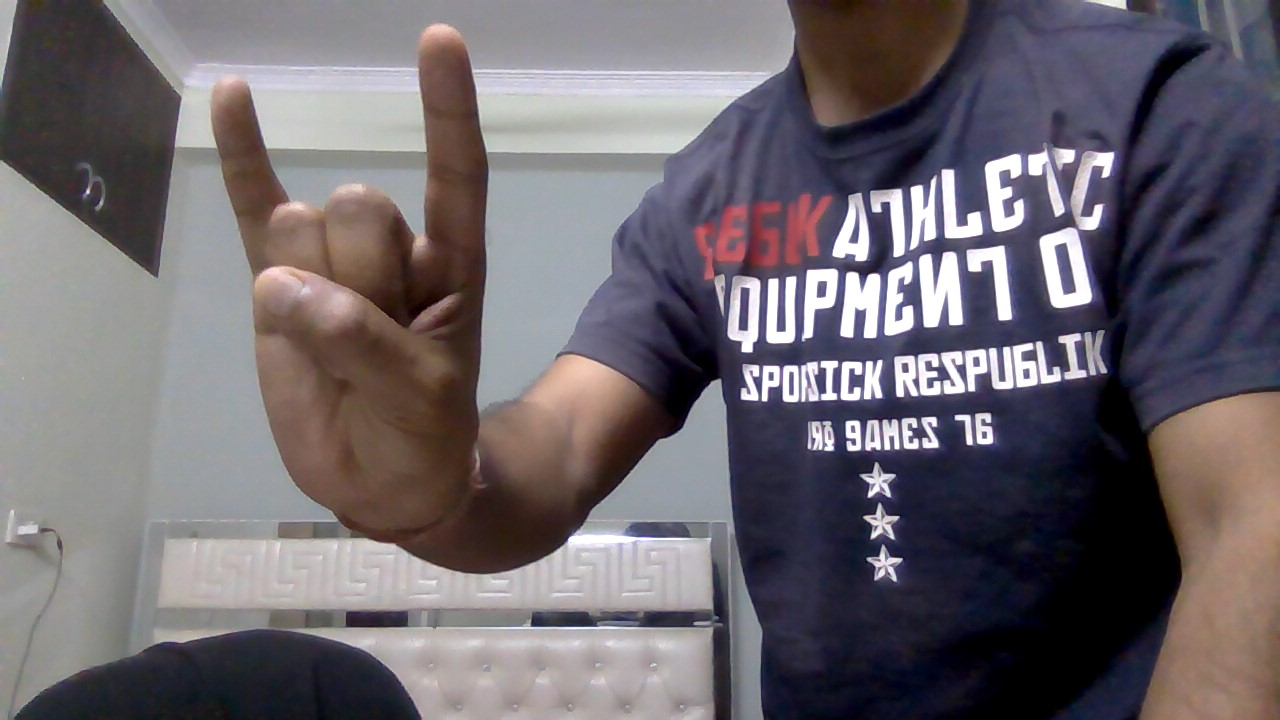Select All: (187, 19, 514, 530)
